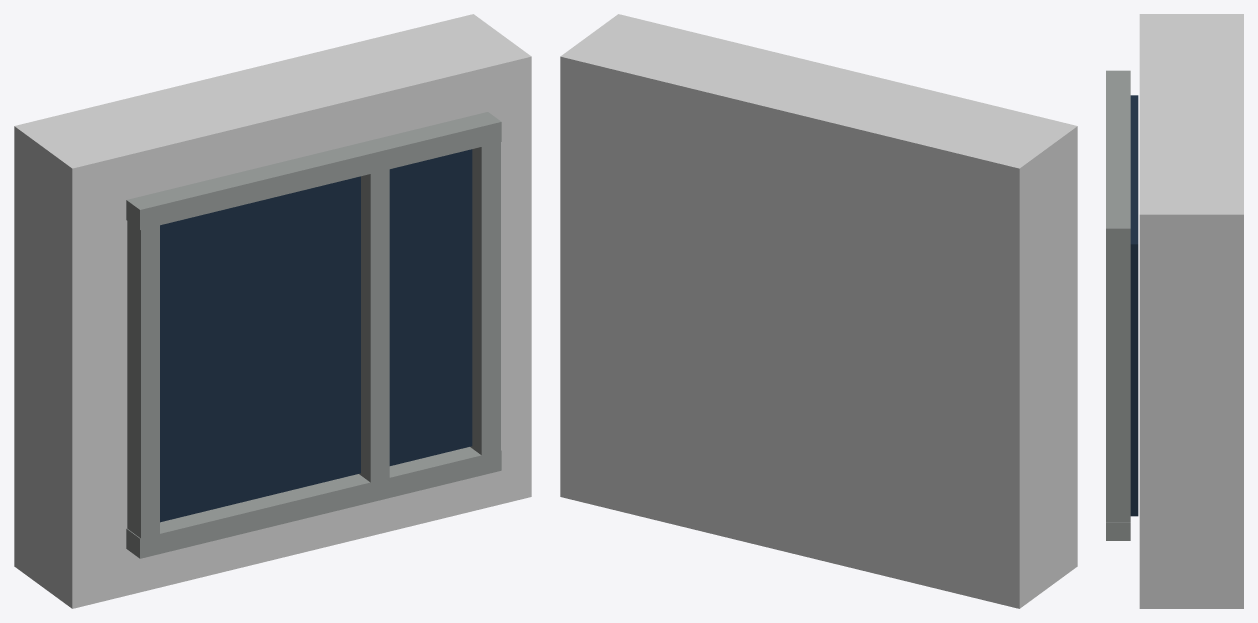
The model's file is harperhey-coral-window-module.glb.
3 renders of one model, left to right at view 1: azimuth 30°, elevation 25°; view 2: azimuth 150°, elevation 25°; view 3: azimuth 270°, elevation 25°, orthographic. The views are drawn at different scales.
Parts seen in each view (by area): view 1: Coral_Window_Module_Wall, Coral_Window_Module_Glass, Coral_Window_Module_H_1.26, Coral_Window_Module_H_0.2, Coral_Window_Module_V_-0.575, Coral_Window_Module_V_0.575, Coral_Window_Module_V_0.2; view 2: Coral_Window_Module_Wall; view 3: Coral_Window_Module_Wall, Coral_Window_Module_V_0.575, Coral_Window_Module_H_1.26, Coral_Window_Module_Glass, Coral_Window_Module_H_0.2.
Part boxes in pixels (<box>): Coral_Window_Module_Wall: <box>14,14,531,608</box>; Coral_Window_Module_Glass: <box>160,149,472,522</box>; Coral_Window_Module_H_1.26: <box>126,112,501,229</box>; Coral_Window_Module_H_0.2: <box>126,447,501,558</box>; Coral_Window_Module_V_-0.575: <box>127,215,159,545</box>; Coral_Window_Module_V_0.575: <box>470,132,500,465</box>; Coral_Window_Module_V_0.2: <box>359,161,389,491</box>; Coral_Window_Module_Wall: <box>560,14,1077,608</box>; Coral_Window_Module_Wall: <box>1139,14,1243,608</box>; Coral_Window_Module_V_0.575: <box>1106,246,1130,522</box>; Coral_Window_Module_H_1.26: <box>1106,70,1130,246</box>; Coral_Window_Module_Glass: <box>1130,95,1138,516</box>; Coral_Window_Module_H_0.2: <box>1106,522,1130,540</box>.
Size of the model in its own units: 1.55 by 1.42 by 0.45.
